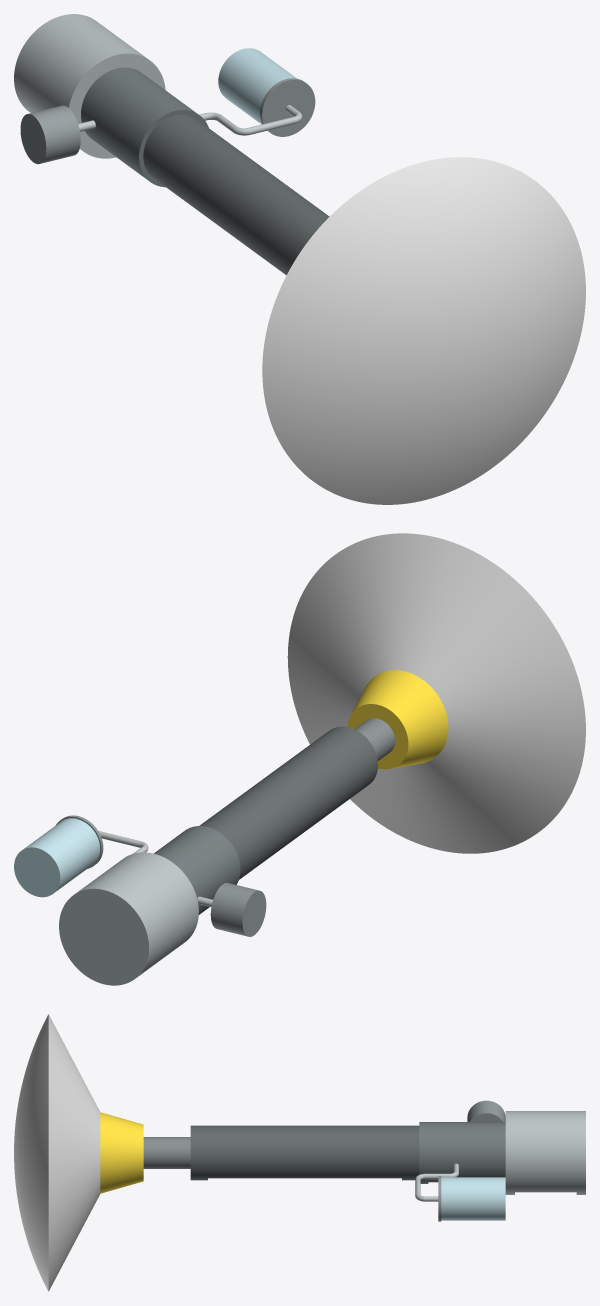
File: demo-project.glb
3 views of the same model, one above another, from view 1: azimuth 30°, elevation 25°; view 2: azimuth 150°, elevation 25°; view 3: azimuth 270°, elevation 25° (orthographic). The views are drawn at different scales.
Parts seen in each view (by area): view 1: Part 3, Part 14, Part 13, Part 15, Part 9, Part 7, Part 2, Part 10; view 2: Part 3, Part 13, Part 14, Part 6, Part 9, Part 15, Part 7, Part 1; view 3: Part 3, Part 14, Part 13, Part 15, Part 6, Part 9, Part 1, Part 7, Part 10.
Boxes of the visible parts, x1,y1,x2,y2 form: Part 3: [262, 157, 585, 504]; Part 14: [143, 114, 329, 275]; Part 13: [14, 14, 165, 158]; Part 15: [81, 67, 208, 187]; Part 9: [218, 48, 296, 124]; Part 7: [20, 105, 80, 164]; Part 2: [260, 78, 315, 136]; Part 10: [199, 105, 302, 135]; Part 3: [287, 533, 585, 853]; Part 13: [59, 852, 198, 985]; Part 14: [199, 726, 377, 879]; Part 6: [347, 670, 448, 769]; Part 9: [14, 818, 99, 897]; Part 15: [154, 826, 240, 914]; Part 7: [210, 883, 266, 936]; Part 1: [354, 718, 395, 760]; Part 3: [14, 1014, 100, 1291]; Part 14: [190, 1125, 419, 1180]; Part 13: [505, 1111, 585, 1194]; Part 15: [419, 1122, 505, 1183]; Part 6: [100, 1112, 143, 1193]; Part 9: [441, 1177, 505, 1220]; Part 1: [143, 1137, 190, 1168]; Part 7: [467, 1100, 505, 1121]; Part 10: [415, 1163, 458, 1201].
Size of the model in its own units: 2.25 by 2.25 by 4.63.
